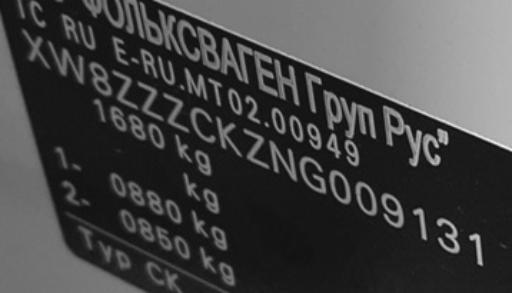letter: (47, 37, 87, 85), (296, 152, 328, 199), (268, 137, 298, 186), (214, 114, 242, 165), (434, 214, 464, 261), (242, 127, 270, 174), (352, 176, 380, 223), (160, 89, 188, 136), (188, 103, 216, 150), (380, 190, 408, 235), (136, 79, 164, 124), (21, 28, 49, 72), (86, 59, 114, 101), (110, 70, 138, 112), (408, 200, 432, 248), (328, 165, 352, 212), (465, 231, 487, 272)
